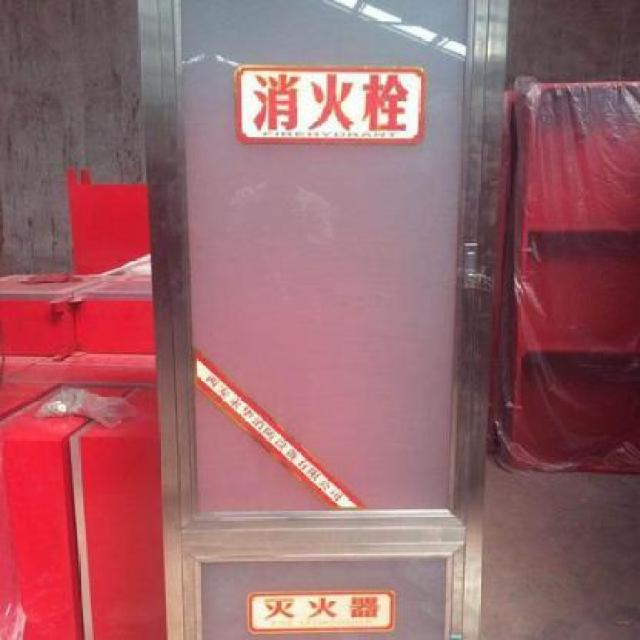firehydrant: (136, 0, 510, 640)
